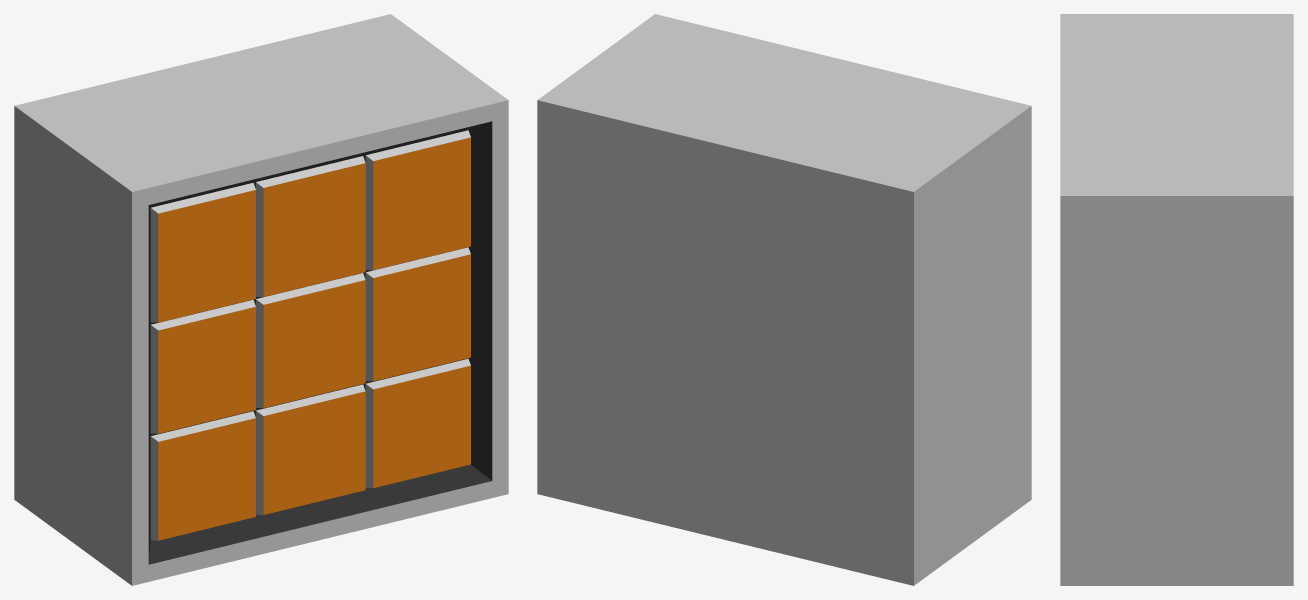
File: Puzzlelock_Asset.fbx
3 renders of one model, left to right at view 1: azimuth 30°, elevation 25°; view 2: azimuth 150°, elevation 25°; view 3: azimuth 270°, elevation 25°, orthographic.
Parts seen in each view (by area): view 1: Cube; view 2: Cube; view 3: Cube.
Part boxes in pixels (box(x1,y1,x2,y2)): Cube: box(14, 14, 508, 585); Cube: box(537, 14, 1031, 585); Cube: box(1060, 14, 1293, 585).
Bounding box in the file's own units: 2 × 2 × 1.08.
